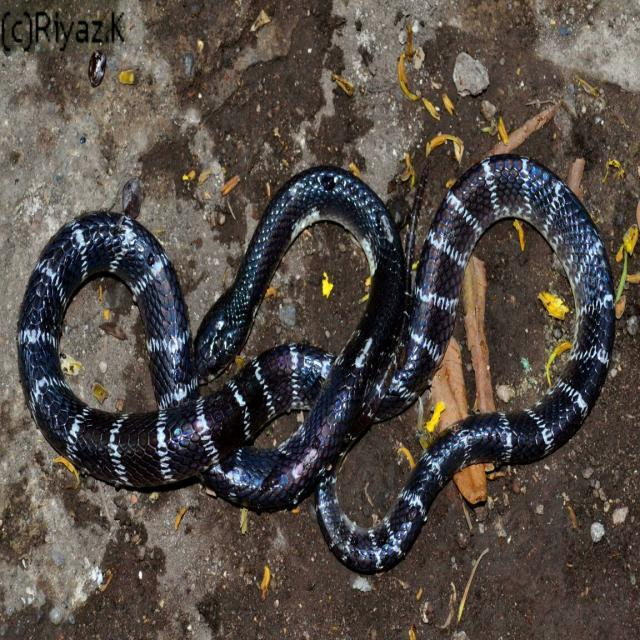Snake: (16, 150, 616, 574)
